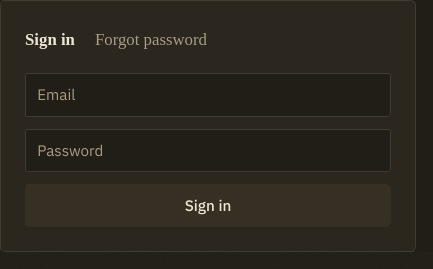
AuthPanel › asks for a reset link, and says nothing about whether the account exists
The image size is (433, 269).
Click the button "Forgot password": (151, 41) [95, 25, 207, 57]
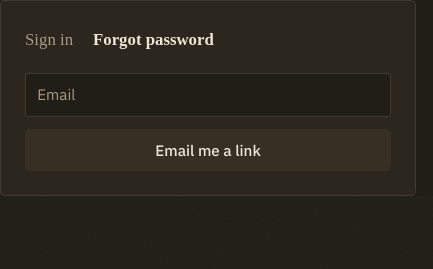
In the field with placeholder "Email": (208, 95) [25, 73, 391, 117], type "alice@example.com"
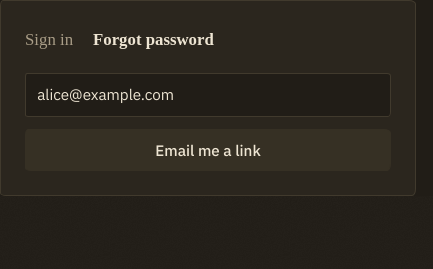
Submit the form, box [25, 73, 391, 171]
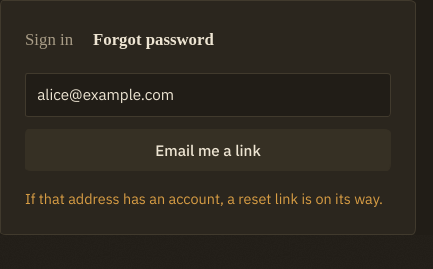
Expected: the message "If that address has an account, a reset link is on its way." is shown, [25, 187, 391, 210]
